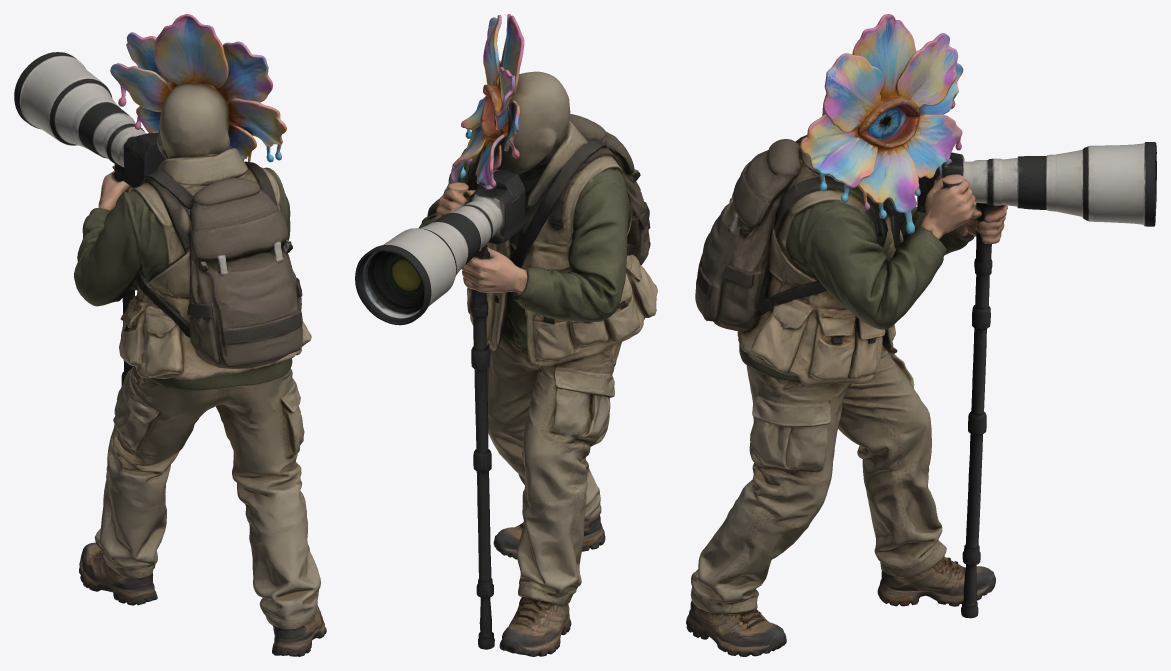
Rendered from oy_photog.glb.
The picture shows the model from 3 angles, left to right: view 1: azimuth 30°, elevation 25°; view 2: azimuth 150°, elevation 25°; view 3: azimuth 270°, elevation 25°; orthographic projection. The views are drawn at different scales.
Visible parts, largest first — view 1: tripo_node_af39f30b-06e4-4f8a-ae48-c2f1d9872279; view 2: tripo_node_af39f30b-06e4-4f8a-ae48-c2f1d9872279; view 3: tripo_node_af39f30b-06e4-4f8a-ae48-c2f1d9872279.
Part boxes in pixels (<box>): tripo_node_af39f30b-06e4-4f8a-ae48-c2f1d9872279: <box>14,14,326,656</box>; tripo_node_af39f30b-06e4-4f8a-ae48-c2f1d9872279: <box>355,14,657,656</box>; tripo_node_af39f30b-06e4-4f8a-ae48-c2f1d9872279: <box>686,14,1156,656</box>.
Bounding box in the file's own units: 0.3608 × 1 × 0.7002.
1 material, 1 textured.
